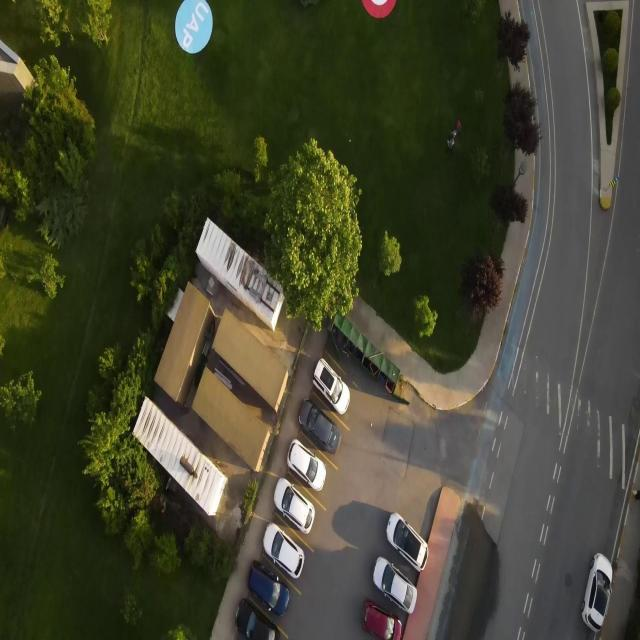p3rson: (445, 134, 455, 156), (455, 118, 462, 133)
